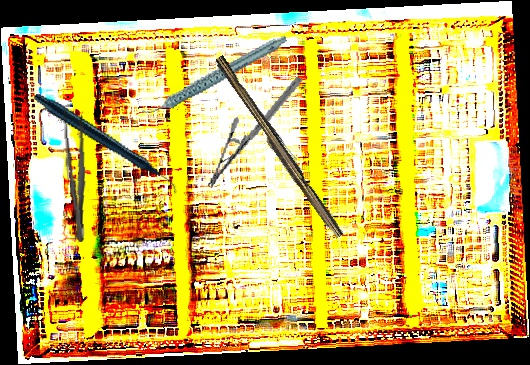Dressing Forceps: (60, 105, 92, 243)
Handpiece: (31, 59, 180, 230), (131, 33, 297, 117)
Hook Surgical: (215, 62, 300, 162)
Needle Holder: (205, 63, 304, 202)
Scalpel Handle: (209, 54, 347, 242)
